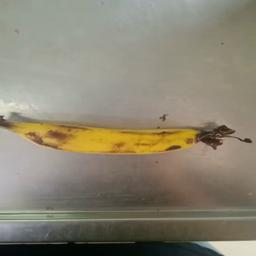Banana Semifresh: (0, 121, 253, 154)
